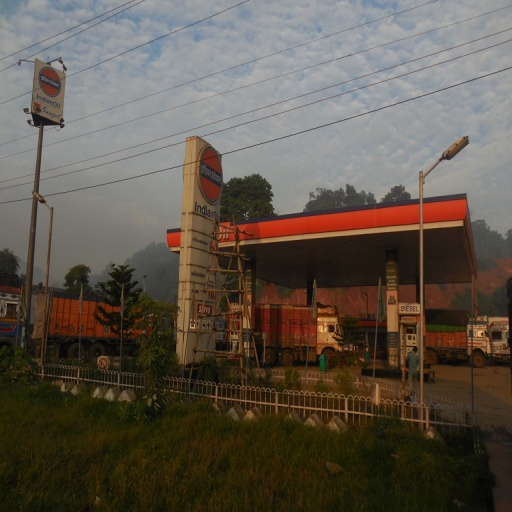roof: (168, 193, 489, 288)
